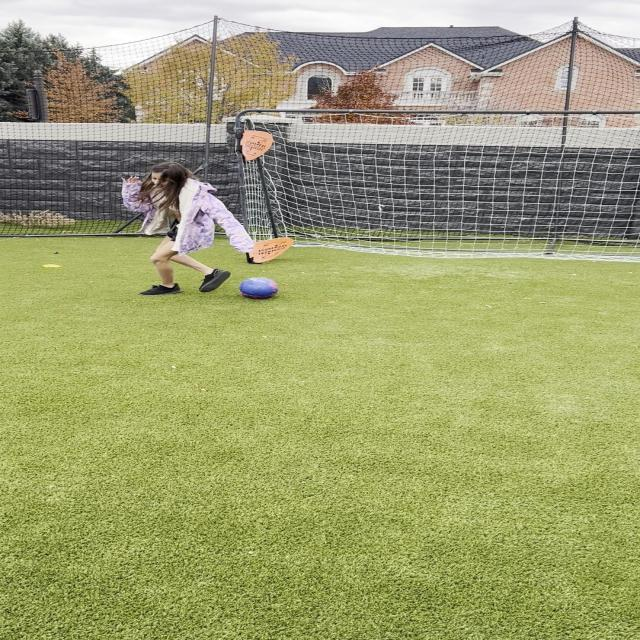Soccer Ball: (238, 277, 280, 301)
